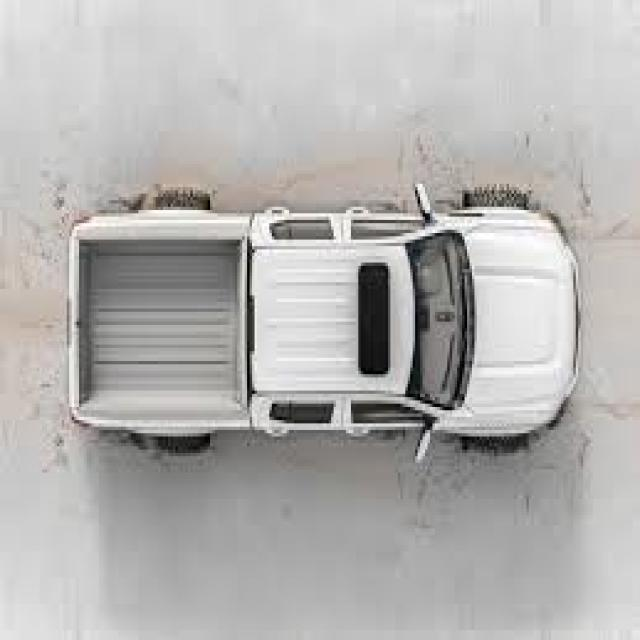truck: (69, 184, 580, 457)
